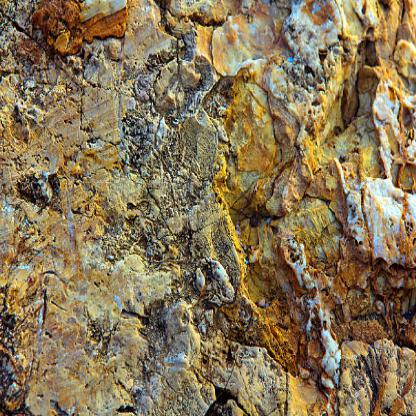Sedimentary_Limestone: (130, 286, 233, 415), (222, 76, 275, 224), (343, 170, 415, 274), (32, 0, 133, 62), (207, 5, 276, 90)
